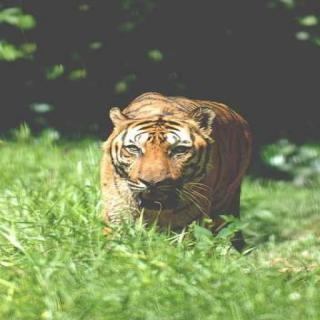Tiger: (85, 84, 257, 278)
